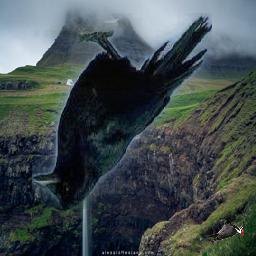Crow: (32, 13, 212, 209)
Woodpecker: (208, 219, 244, 242)
